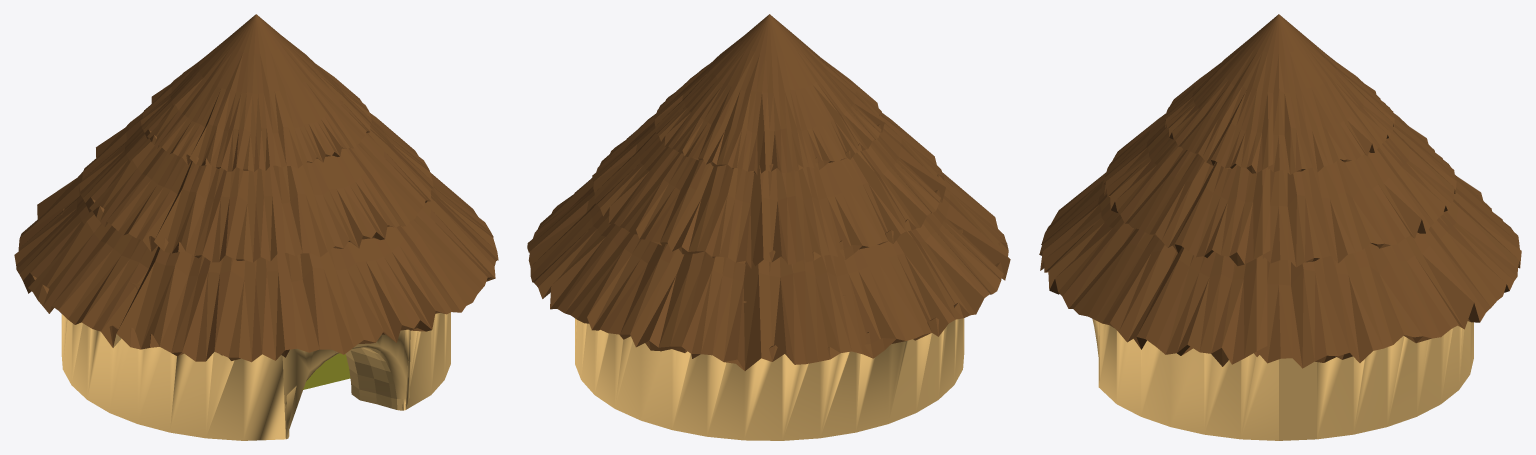
File: casa.glb
3 renders of one model, left to right at view 1: azimuth 30°, elevation 25°; view 2: azimuth 150°, elevation 25°; view 3: azimuth 270°, elevation 25°, orthographic.
Parts seen in each view (by area): view 1: Cylinder; view 2: Cylinder; view 3: Cylinder.
Part boxes in pixels (left/top/right/bottom): Cylinder: left=14, top=14, right=498, bottom=440; Cylinder: left=527, top=14, right=1010, bottom=440; Cylinder: left=1039, top=14, right=1521, bottom=440.
Size of the model in its own units: 27.94 by 21.89 by 27.78.
